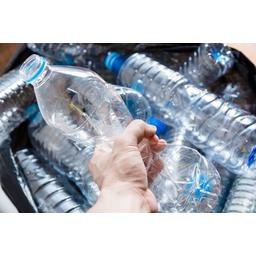plastic: (107, 44, 256, 174), (18, 57, 160, 173)
